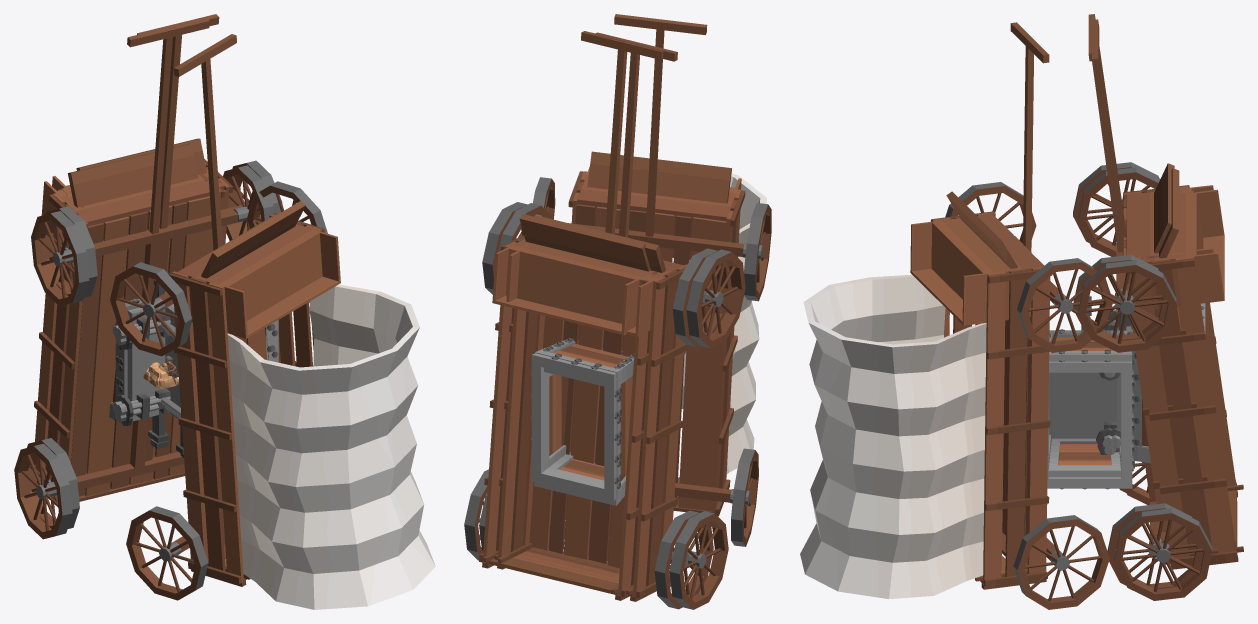
The model's file is coal_mine.glb.
3 renders of one model, left to right at view 1: azimuth 30°, elevation 25°; view 2: azimuth 150°, elevation 25°; view 3: azimuth 270°, elevation 25°, orthographic.
Parts seen in each view (by area): view 1: cart 3_69, cart 2 (1)_75, cart 2_9, waggonette (3)_88, waggonette (2)_42, waggonette (5)_122, waggonette (4)_52; view 2: cart 2_9, cart 3_69, cart 2 (1)_75, waggonette (4)_52, waggonette (3)_88, waggonette (5)_122; view 3: cart 3_69, cart 2_9, cart 2 (1)_75, waggonette_22, waggonette (1)_172, waggonette (3)_88, waggonette (4)_52, waggonette (5)_122, waggonette (2)_42.
Part boxes in pixels (<box>): cart 3_69: <box>110,34,435,609</box>; cart 2 (1)_75: <box>14,18,274,539</box>; cart 2_9: <box>27,14,282,529</box>; waggonette (3)_88: <box>109,268,170,442</box>; waggonette (2)_42: <box>155,304,274,454</box>; waggonette (5)_122: <box>109,279,168,448</box>; waggonette (4)_52: <box>111,298,156,439</box>; cart 2_9: <box>464,31,731,609</box>; cart 3_69: <box>533,14,771,546</box>; cart 2 (1)_75: <box>479,32,745,609</box>; waggonette (4)_52: <box>531,339,634,501</box>; waggonette (3)_88: <box>535,338,634,498</box>; waggonette (5)_122: <box>534,368,633,505</box>; cart 3_69: <box>800,22,1113,609</box>; cart 2_9: <box>1078,19,1243,600</box>; cart 2 (1)_75: <box>1073,14,1236,588</box>; waggonette_22: <box>1047,308,1133,489</box>; waggonette (1)_172: <box>1048,297,1133,477</box>; waggonette (3)_88: <box>1096,293,1182,456</box>; waggonette (4)_52: <box>1105,303,1205,468</box>; waggonette (5)_122: <box>1097,309,1183,463</box>; waggonette (2)_42: <box>1049,296,1133,466</box>.
Size of the model in its own units: 12.05 by 23.1 by 17.78.
Materials: 1 (1 with a texture image).
